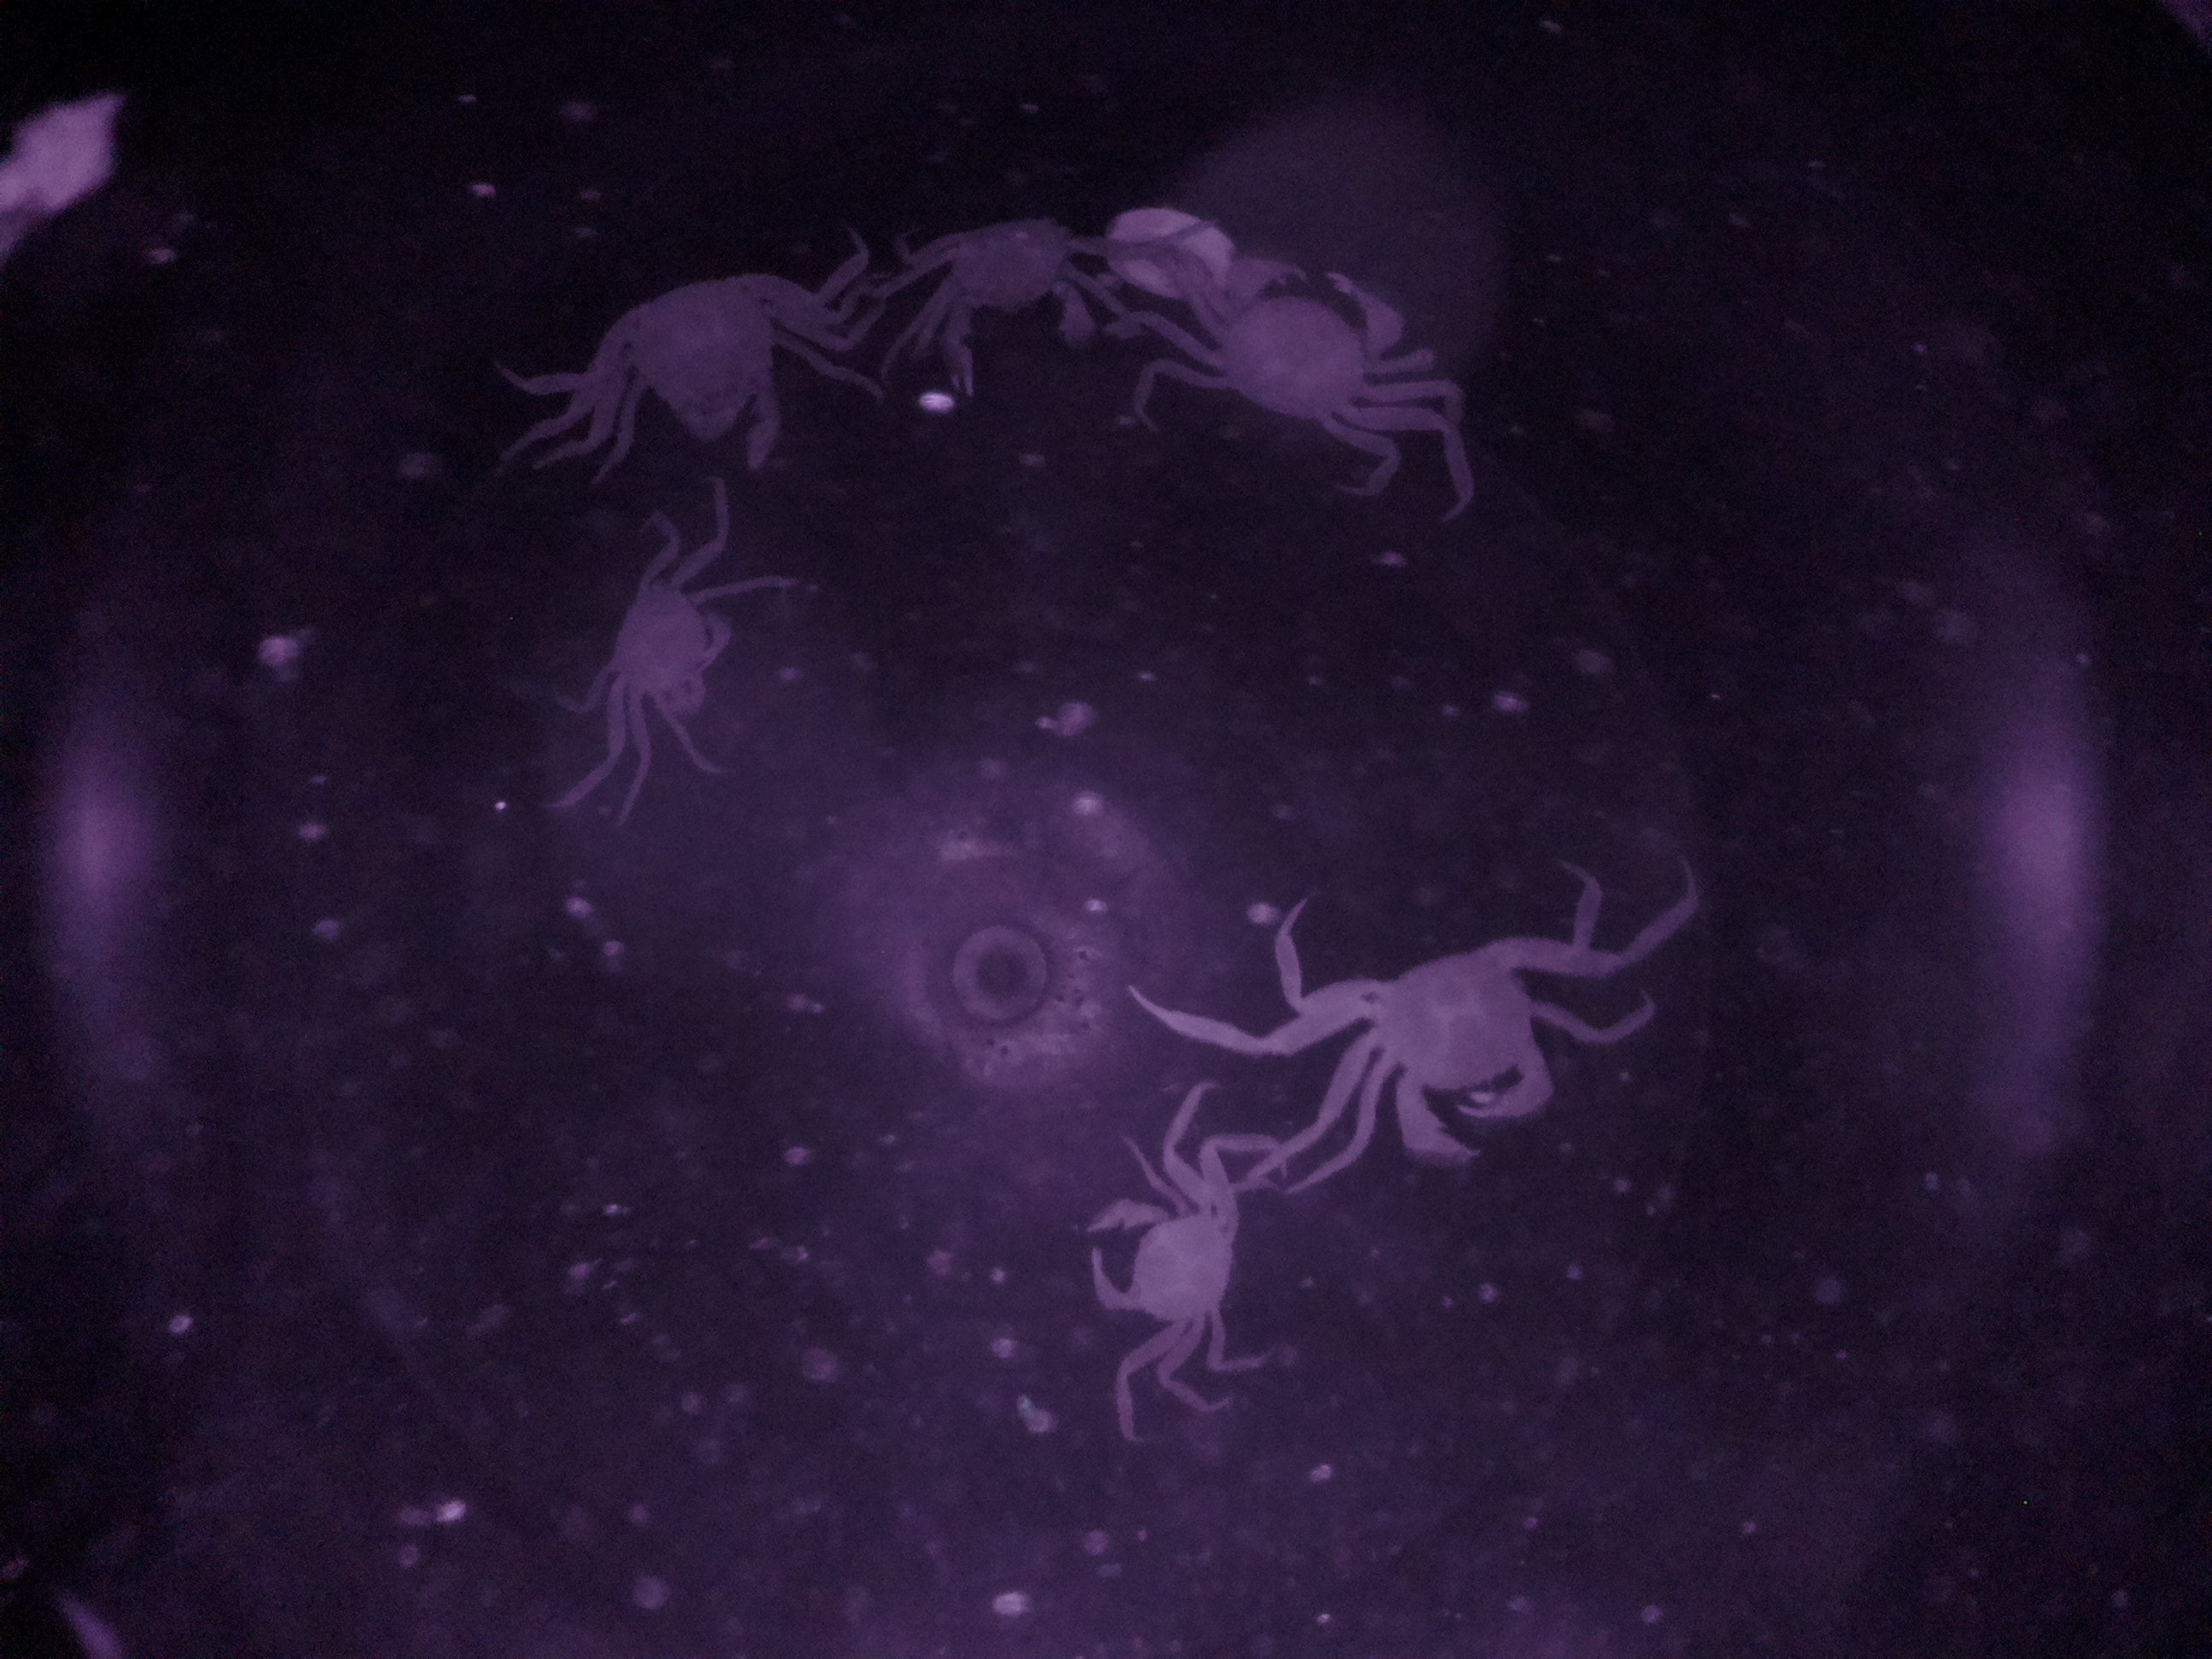Crab: (1313, 915, 1602, 1178), (1184, 244, 1446, 458), (888, 202, 1122, 420), (1068, 1162, 1263, 1368), (597, 537, 775, 755)
